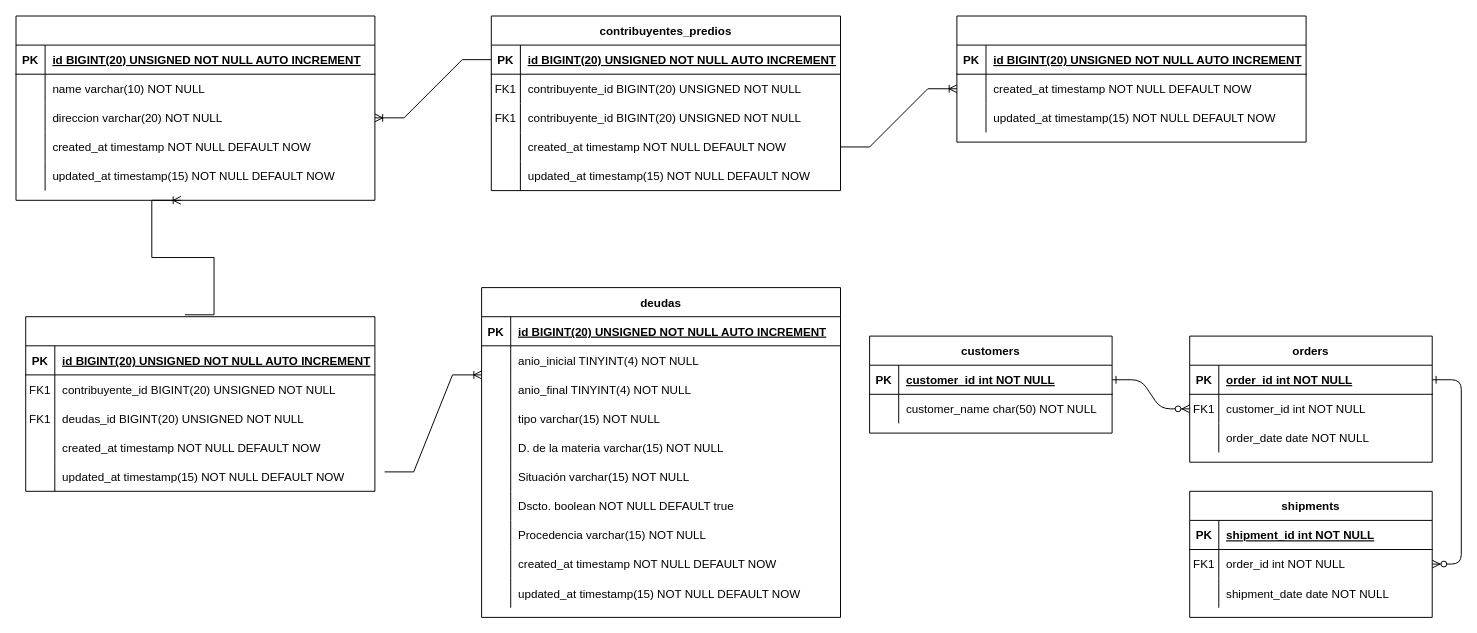
This 1477x633 diagram has some shape labels left out. The shapes that lost their labels are listed below. From the top down, each one's box as (x1, y1, x2, y2) in pixels, then its label:
(956, 15, 1306, 142): predios
(15, 15, 375, 200): contribuyentes
(25, 316, 375, 491): contribuyentes_deudas
